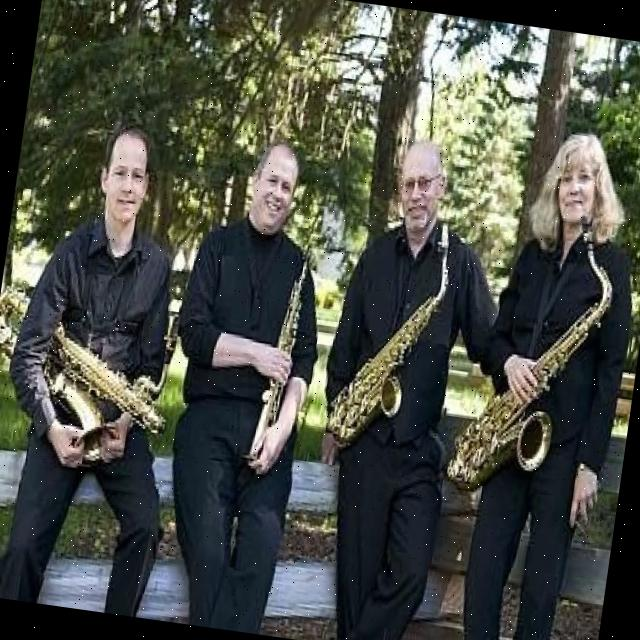saxophone: (442, 201, 625, 511), (0, 264, 190, 477), (322, 205, 460, 458)
